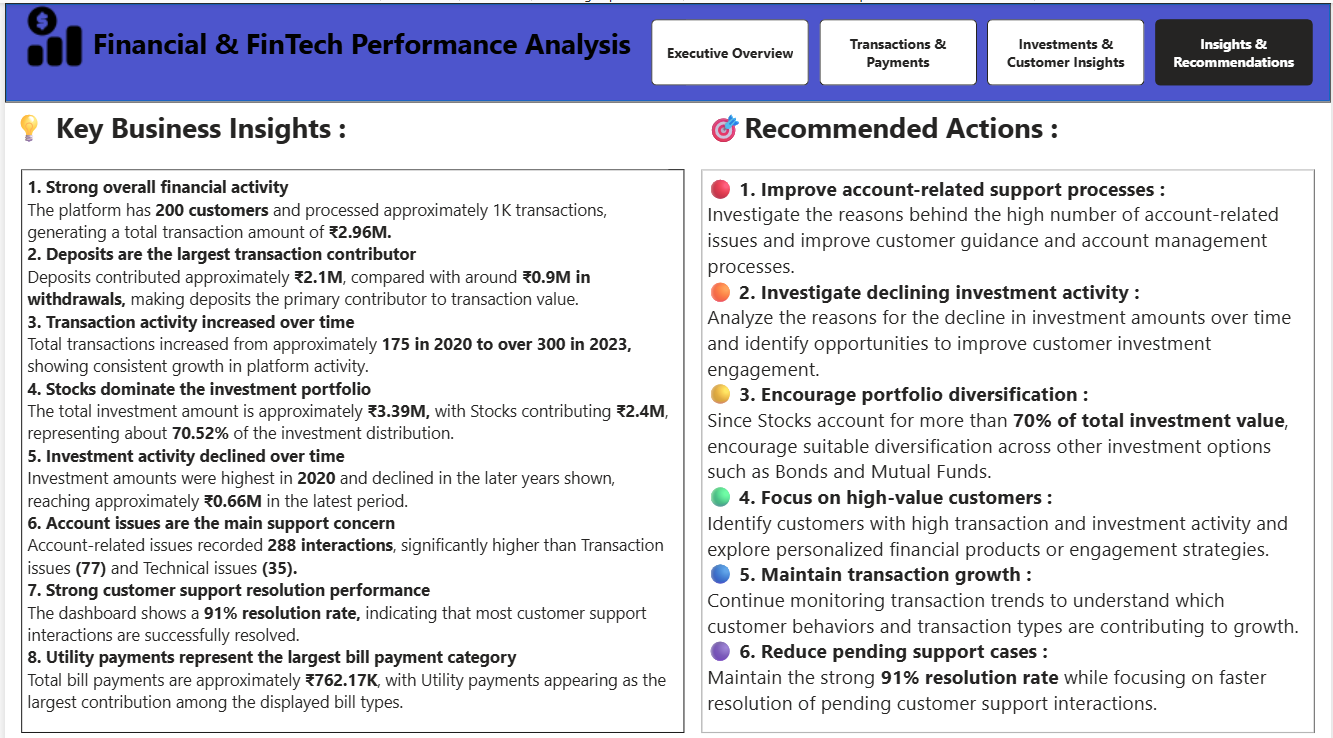

Layout of this report page (visuals, bound fields, positions):
{"tool":"powerbi","page":{"name":"Insights & Recommendations","canvas":[1280,720],"ordinal":3},"visuals":[{"type":"shape","box":[0,0,1280,96],"z":0},{"type":"textbox","box":[80,16,576,64],"z":1000},{"type":"pageNavigator","box":[624,16,640,64],"z":2000},{"type":"image","box":[0,0,96,64],"z":3000},{"type":"textbox","box":[672,160,592,544],"z":3001},{"type":"textbox","box":[16,160,640,544],"z":3002},{"type":"textbox","box":[0,96,640,64],"z":3003},{"type":"textbox","box":[672,96,592,64],"z":3004}]}

Visuals, with their boxes in screenshot pixels (x1, y1, x2, y2), scaled from the page's 1280x720 canvas onto the 1333x738 screenshot:
shape: bbox=[0, 0, 1332, 98]
textbox: bbox=[83, 16, 683, 82]
pageNavigator: bbox=[650, 16, 1316, 82]
image: bbox=[0, 0, 100, 66]
textbox: bbox=[700, 164, 1316, 722]
textbox: bbox=[17, 164, 683, 722]
textbox: bbox=[0, 98, 666, 164]
textbox: bbox=[700, 98, 1316, 164]
